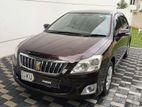car: (13, 9, 133, 98)
